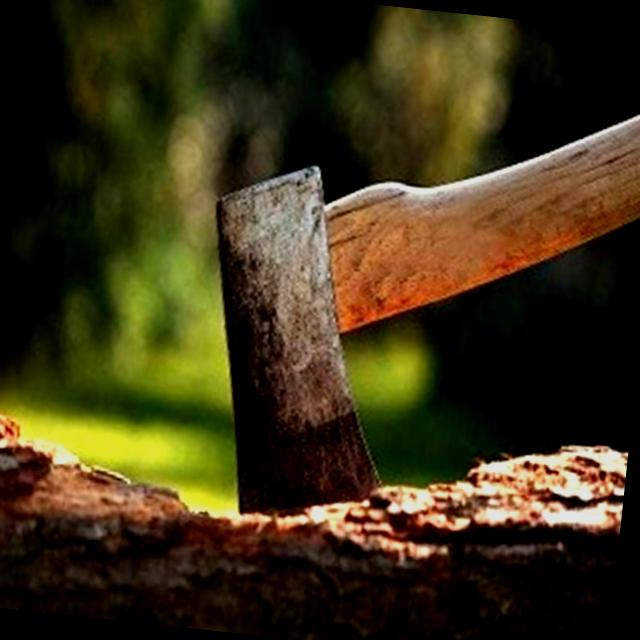ax: (169, 50, 640, 559)
